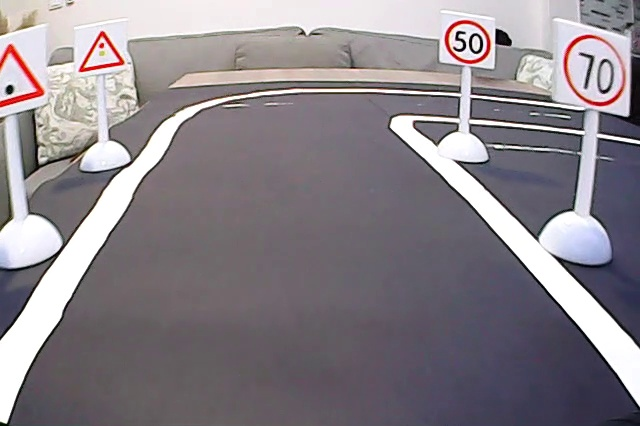green light: (1, 30, 41, 107)
red light: (75, 29, 127, 72)
speed limit 50: (443, 15, 494, 66)
speed limit 70: (558, 21, 627, 111)
